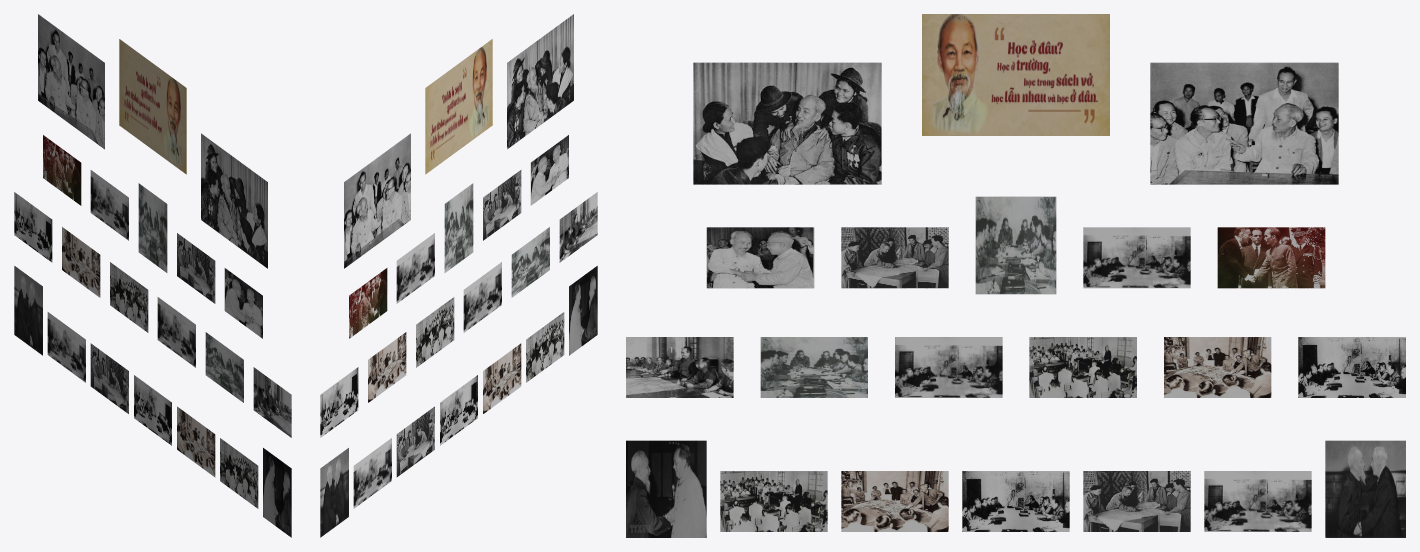
Rendered from HanhTrinhDA.glb.
The picture shows the model from 3 angles, left to right: view 1: azimuth 30°, elevation 25°; view 2: azimuth 150°, elevation 25°; view 3: azimuth 270°, elevation 25°; orthographic projection. The views are drawn at different scales.
Parts seen in each view (by area): view 1: Plane.009, Plane.017, Plane.015, Plane.002, Plane.018, Plane.013, Plane.023, Plane.008, Plane.011, Plane.001, Plane.005, Plane.006 (+9 smaller); view 2: Plane.009, Plane.015, Plane.017, Plane.002, Plane.013, Plane.018, Plane.008, Plane.011, Plane.005, Plane.023, Plane.022, Plane.021 (+9 smaller); view 3: Plane.015, Plane.017, Plane.009, Plane.002, Plane.013, Plane.018, Plane.003, Plane.012, Plane.014, Plane.016, Plane.023, Plane.022 (+9 smaller).
Boxes of the visible parts, bbox=[...] form: Plane.009: bbox=[119, 39, 186, 174]; Plane.017: bbox=[201, 133, 267, 268]; Plane.015: bbox=[38, 14, 104, 149]; Plane.002: bbox=[138, 183, 167, 272]; Plane.018: bbox=[263, 448, 291, 537]; Plane.013: bbox=[14, 266, 42, 355]; Plane.023: bbox=[14, 192, 52, 262]; Plane.008: bbox=[90, 343, 128, 413]; Plane.011: bbox=[177, 406, 215, 477]; Plane.001: bbox=[220, 438, 258, 508]; Plane.005: bbox=[253, 367, 291, 437]; Plane.006: bbox=[110, 262, 148, 332]; Plane.009: bbox=[425, 39, 492, 174]; Plane.015: bbox=[344, 133, 410, 268]; Plane.017: bbox=[507, 14, 573, 149]; Plane.002: bbox=[444, 183, 473, 272]; Plane.013: bbox=[320, 448, 348, 537]; Plane.018: bbox=[569, 266, 597, 355]; Plane.008: bbox=[396, 406, 434, 477]; Plane.011: bbox=[483, 343, 521, 413]; Plane.005: bbox=[559, 192, 597, 262]; Plane.023: bbox=[320, 367, 358, 437]; Plane.022: bbox=[368, 332, 406, 402]; Plane.021: bbox=[353, 438, 391, 508]; Plane.015: bbox=[1150, 62, 1338, 184]; Plane.017: bbox=[693, 62, 881, 184]; Plane.009: bbox=[922, 14, 1109, 135]; Plane.002: bbox=[975, 196, 1056, 294]; Plane.013: bbox=[1325, 440, 1405, 537]; Plane.018: bbox=[626, 440, 706, 537]; Plane.003: bbox=[706, 227, 814, 288]; Plane.012: bbox=[1217, 227, 1325, 288]; Plane.014: bbox=[841, 227, 948, 288]; Plane.016: bbox=[1083, 227, 1190, 288]; Plane.023: bbox=[1298, 337, 1405, 397]; Plane.022: bbox=[1164, 337, 1271, 397].
Size of the model in its own units: 0 by 2.15 by 2.9.
Materials: 21 (21 with a texture image).
